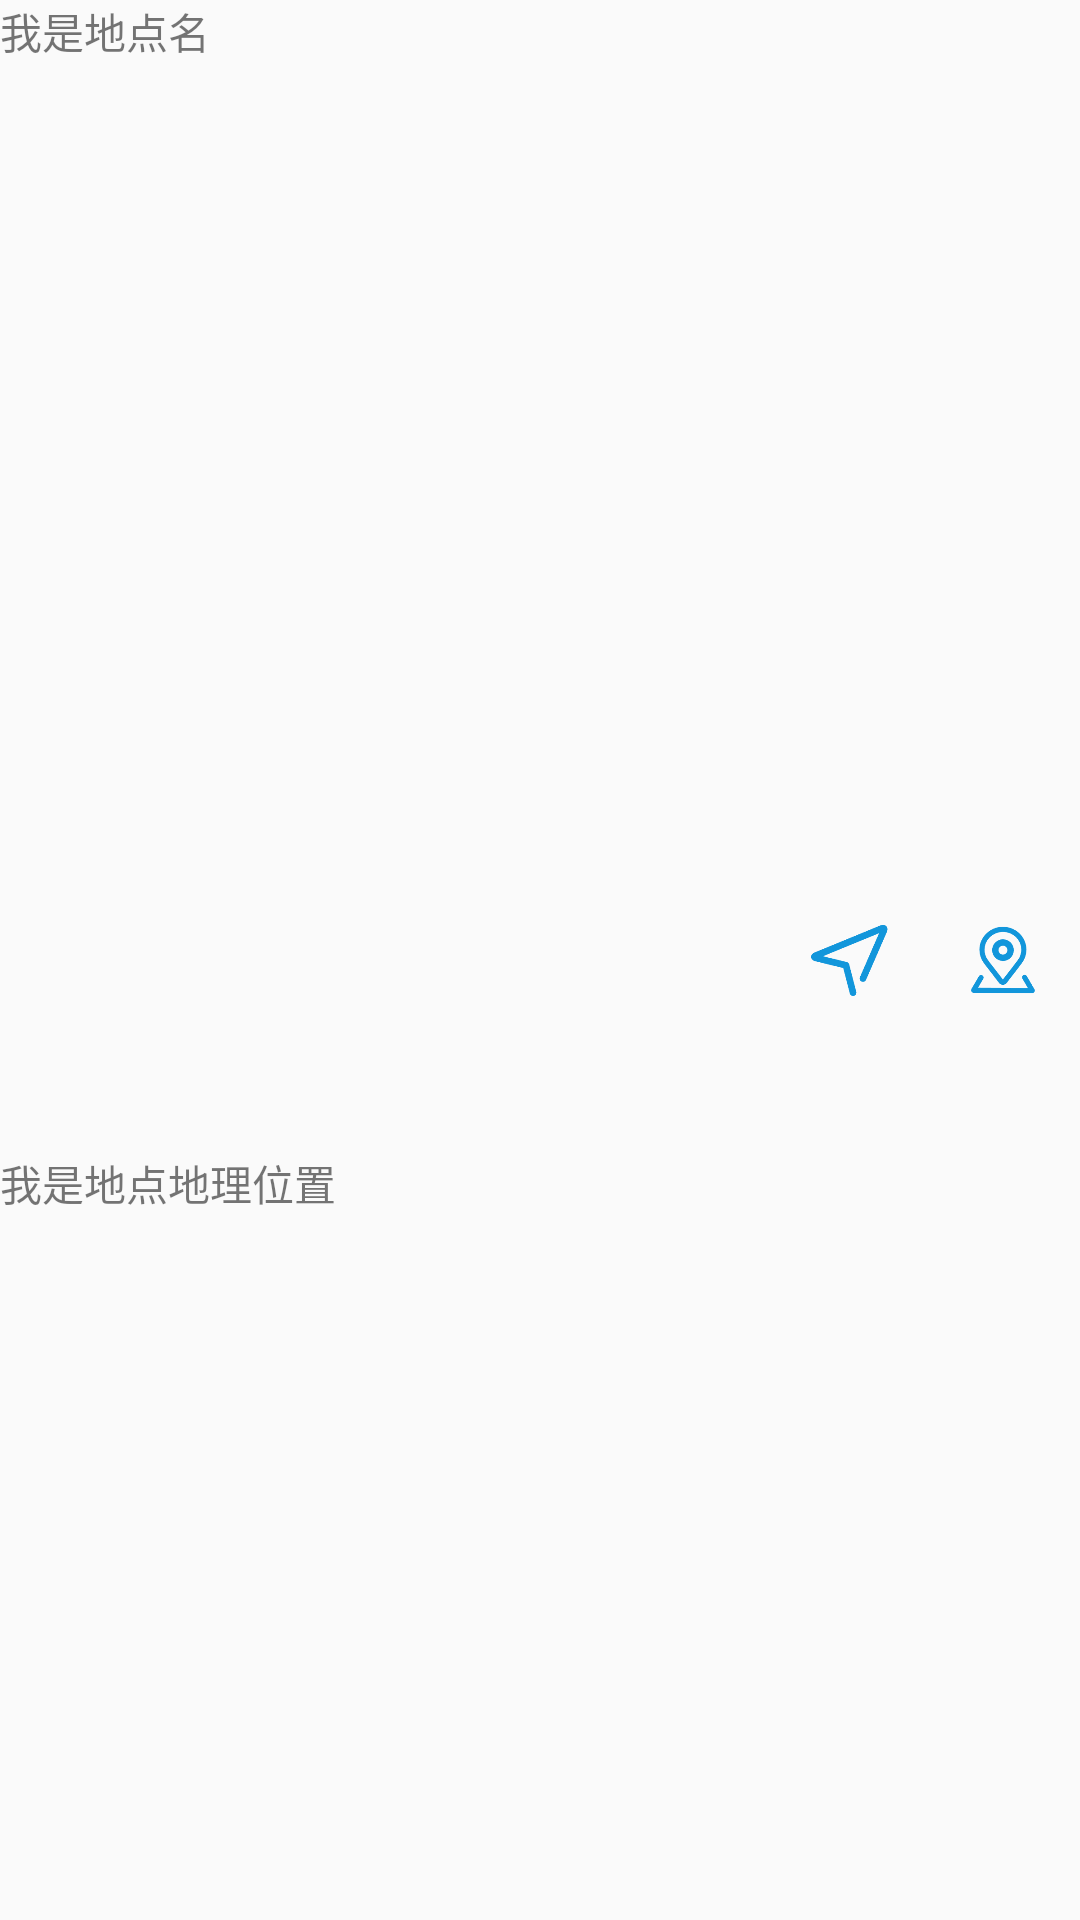

Screen size 1080w x 1920h. Icon name, then its box in pixels as bbox=[x1, y1, x2, y2]:
location: bbox=[971, 927, 1035, 993]
route: bbox=[811, 925, 888, 996]
